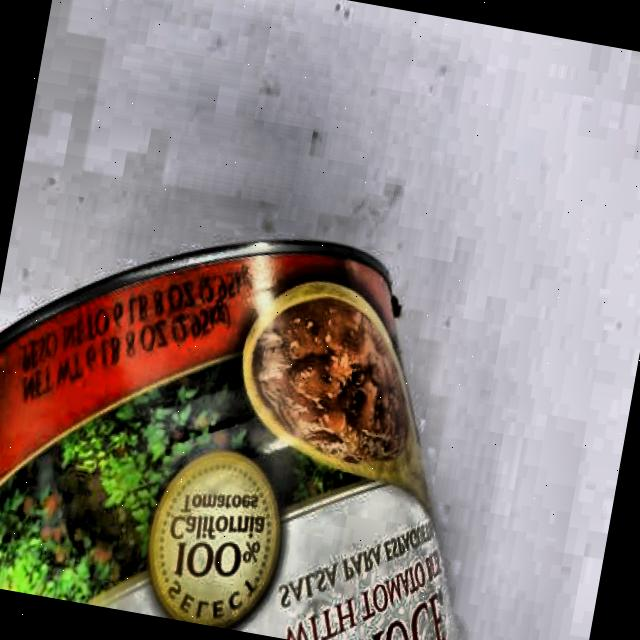metal: (0, 184, 526, 640)
